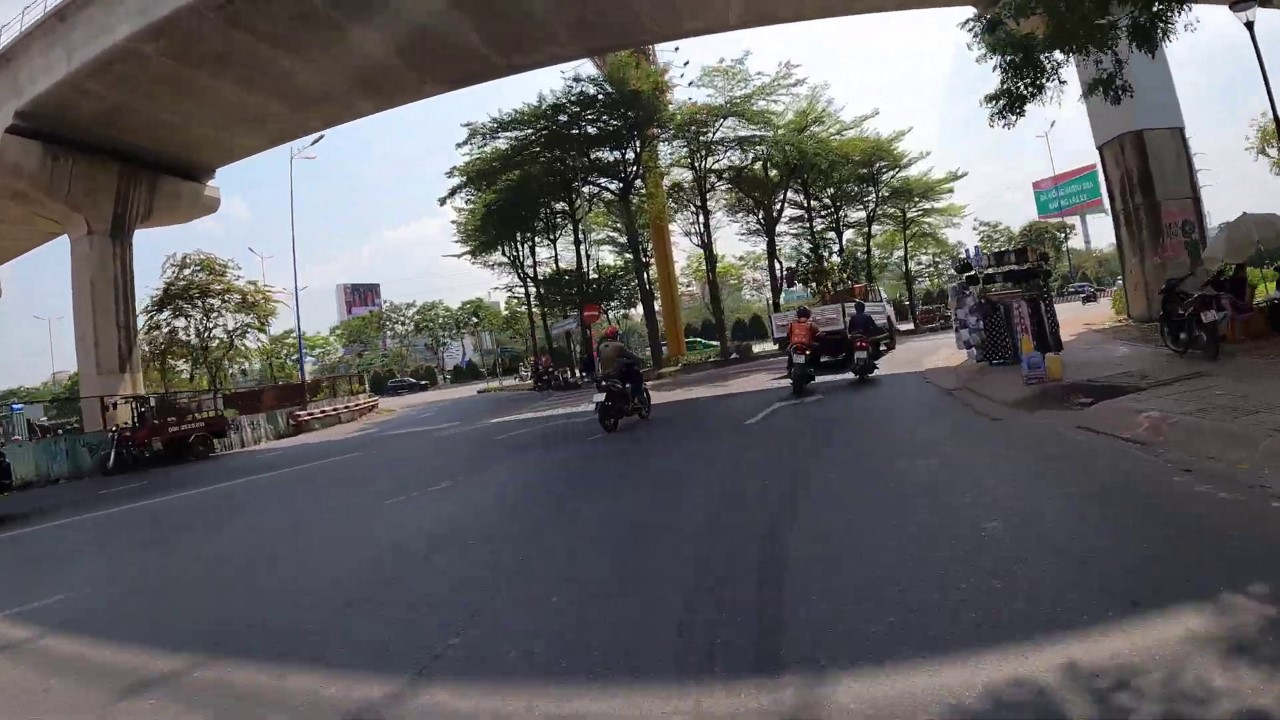cam_nguoc_chieu: (582, 304, 600, 325)
